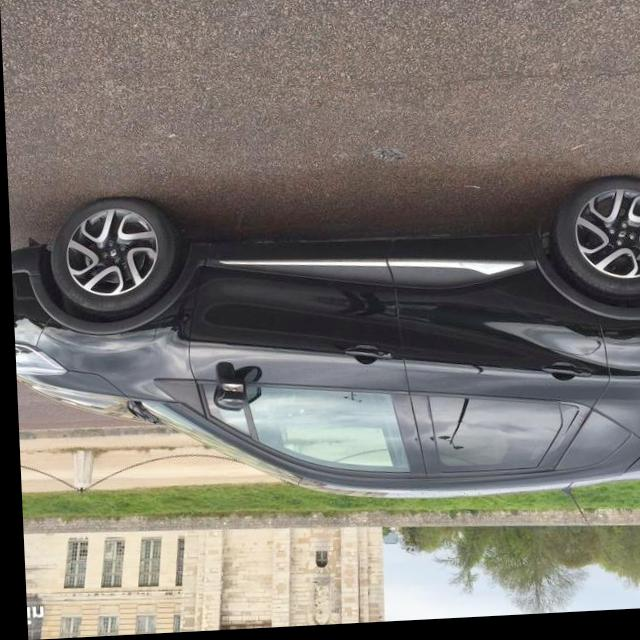porte-avant: (178, 237, 427, 495)
